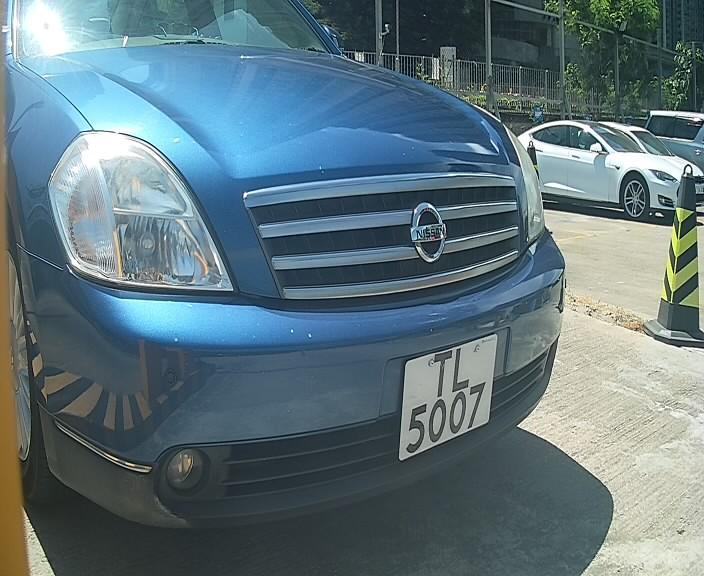privatecar: (1, 8, 591, 548)
